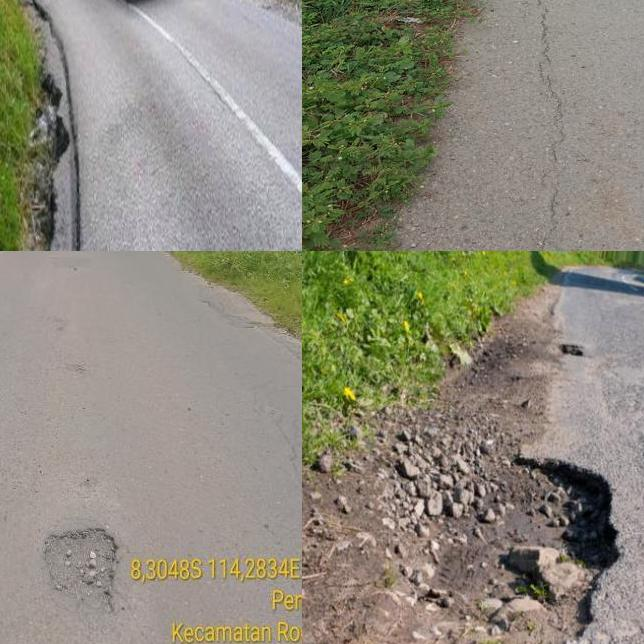Lubang: (41, 527, 117, 607)
Memanjang: (512, 0, 583, 251)
Pinggir: (344, 0, 495, 251), (440, 443, 627, 644), (8, 0, 100, 251)
